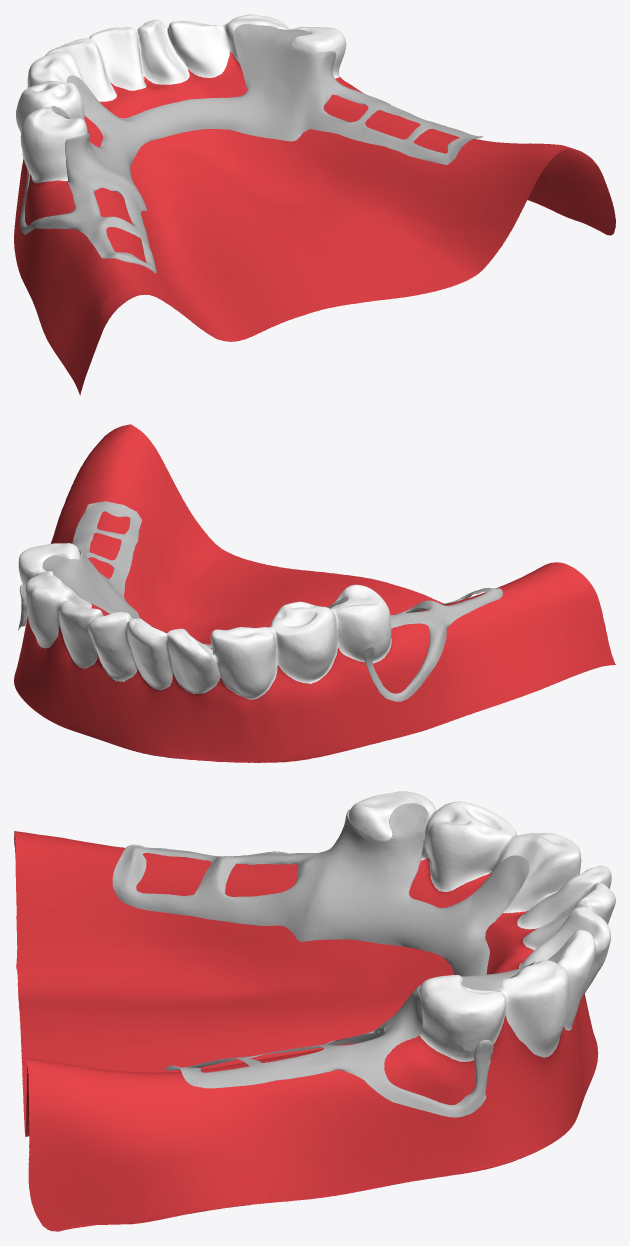
The model's file is 1756309492482-01_teeth+cast-draco.glb.
The picture shows the model from 3 angles, top to bottom: view 1: azimuth 30°, elevation 25°; view 2: azimuth 150°, elevation 25°; view 3: azimuth 270°, elevation 25°; orthographic projection. The views are drawn at different scales.
Visible parts, largest first — view 1: 01_teeth, 01_cast; view 2: 01_teeth, 01_cast; view 3: 01_teeth, 01_cast.
Part boxes in pixels (box(x1,y1,x2,y2)): 01_teeth: box(14, 14, 615, 394); 01_cast: box(20, 24, 483, 273); 01_teeth: box(14, 424, 615, 762); 01_cast: box(18, 501, 502, 701); 01_teeth: box(14, 791, 615, 1231); 01_cast: box(112, 803, 535, 1117).
Size of the model in its own units: 10.92 by 2.86 by 8.1.
